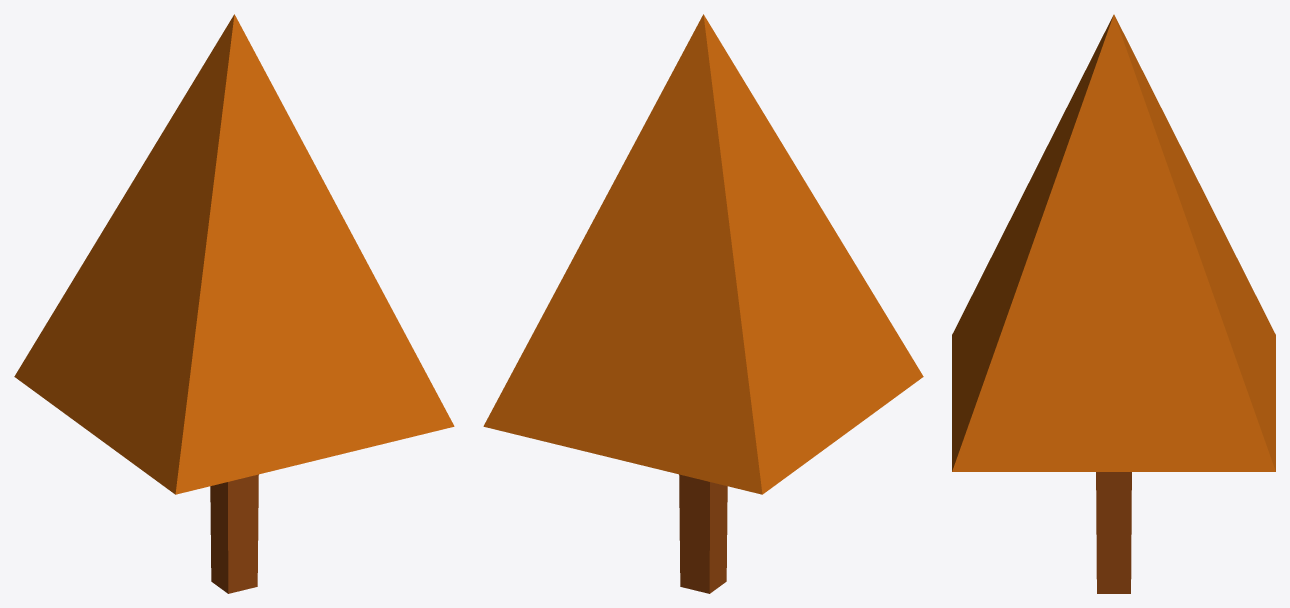
Rendered from Tree_34_Fall.fbx.
3 renders of one model, left to right at view 1: azimuth 30°, elevation 25°; view 2: azimuth 150°, elevation 25°; view 3: azimuth 270°, elevation 25°, orthographic.
Visible parts, largest first — view 1: Tree_34_Fall; view 2: Tree_34_Fall; view 3: Tree_34_Fall.
Part boxes in pixels (<box>): Tree_34_Fall: <box>14,14,454,593</box>; Tree_34_Fall: <box>483,14,923,593</box>; Tree_34_Fall: <box>952,14,1275,593</box>.
Bounding box in the file's own units: 134 × 262 × 134.
